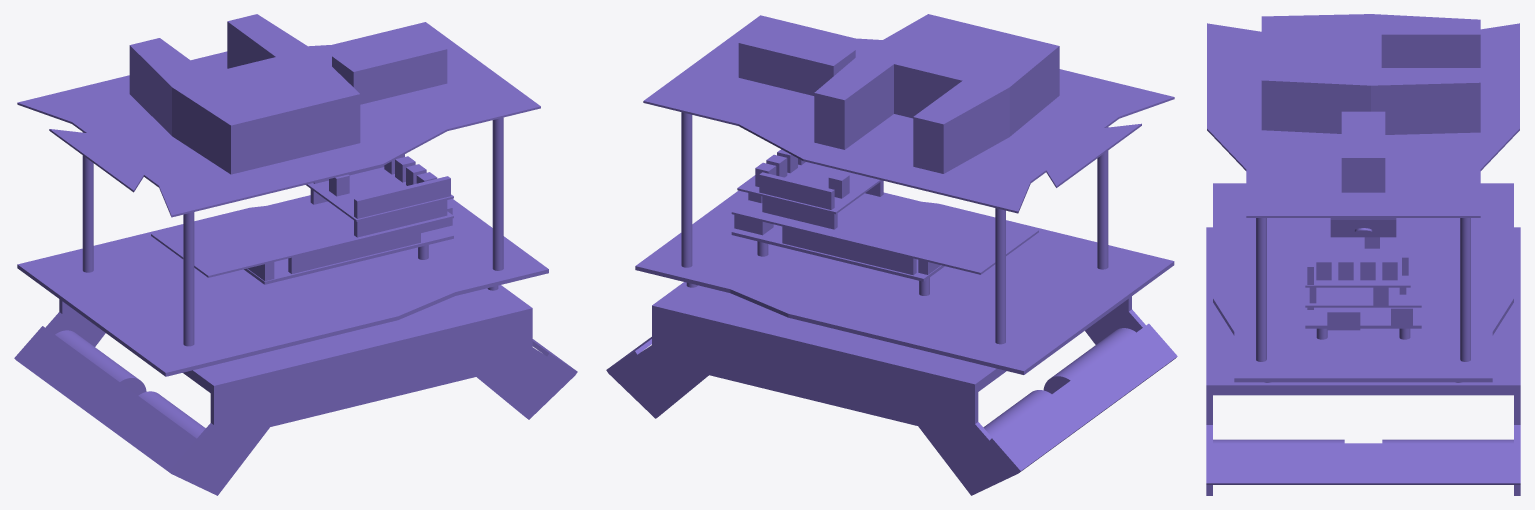
The model's file is Cherokey_chassis_v2.dae.
3 views of the same model, side by side, from view 1: azimuth 30°, elevation 25°; view 2: azimuth 150°, elevation 25°; view 3: azimuth 270°, elevation 25° (orthographic).
Visible parts, largest first — view 1: node0; view 2: node0; view 3: node0.
Part boxes in pixels (left/top/right/bottom): node0: left=14, top=14, right=577, bottom=495; node0: left=606, top=14, right=1177, bottom=495; node0: left=1206, top=14, right=1520, bottom=495.
Bounding box in the file's own units: 0.2181 × 0.143 × 0.1735.
